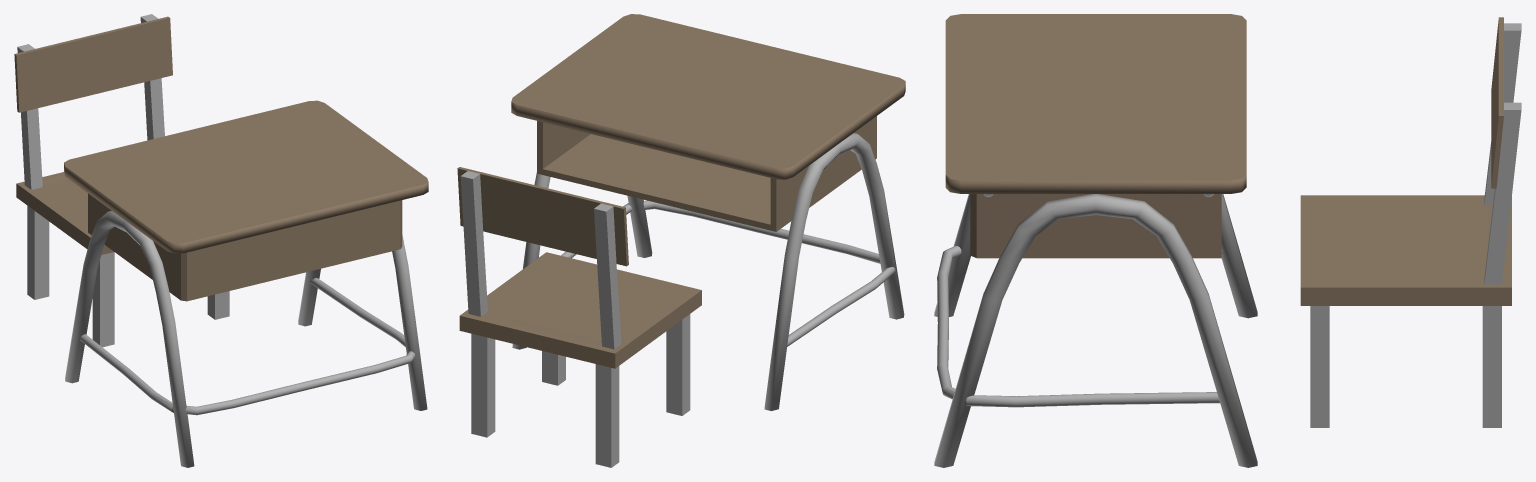
Rendered from Table_Final.fbx.
3 views of the same model, side by side, from view 1: azimuth 30°, elevation 25°; view 2: azimuth 150°, elevation 25°; view 3: azimuth 270°, elevation 25° (orthographic). The views are drawn at different scales.
Parts seen in each view (by area): view 1: Table_Final, Chair_Final; view 2: Table_Final, Chair_Final; view 3: Table_Final, Chair_Final.
Part boxes in pixels (bbox=[...]): Table_Final: bbox=[64, 100, 428, 467]; Chair_Final: bbox=[14, 14, 229, 347]; Table_Final: bbox=[511, 14, 905, 410]; Chair_Final: bbox=[457, 167, 701, 467]; Table_Final: bbox=[934, 14, 1257, 467]; Chair_Final: bbox=[1300, 17, 1521, 427].
Bounding box in the file's own units: 135 × 121 × 200.
Materials: 2 (2 with a texture image).
